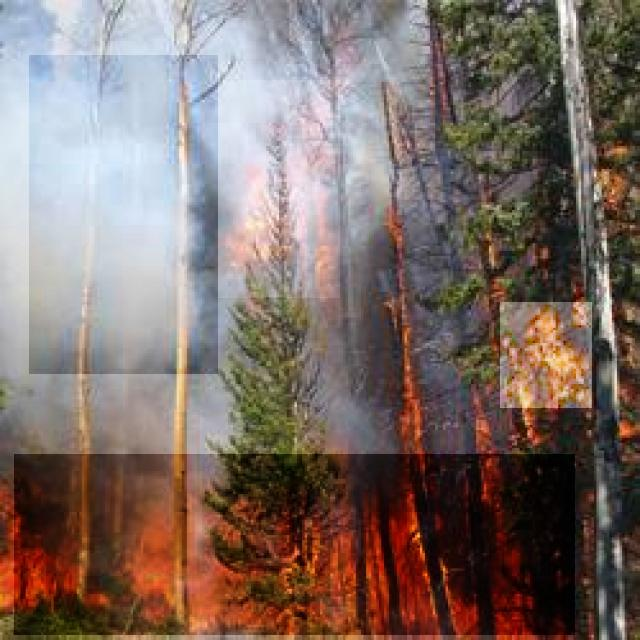Fire: (14, 454, 575, 635), (216, 80, 340, 298), (500, 302, 592, 408)
Smoke: (29, 55, 218, 374)
